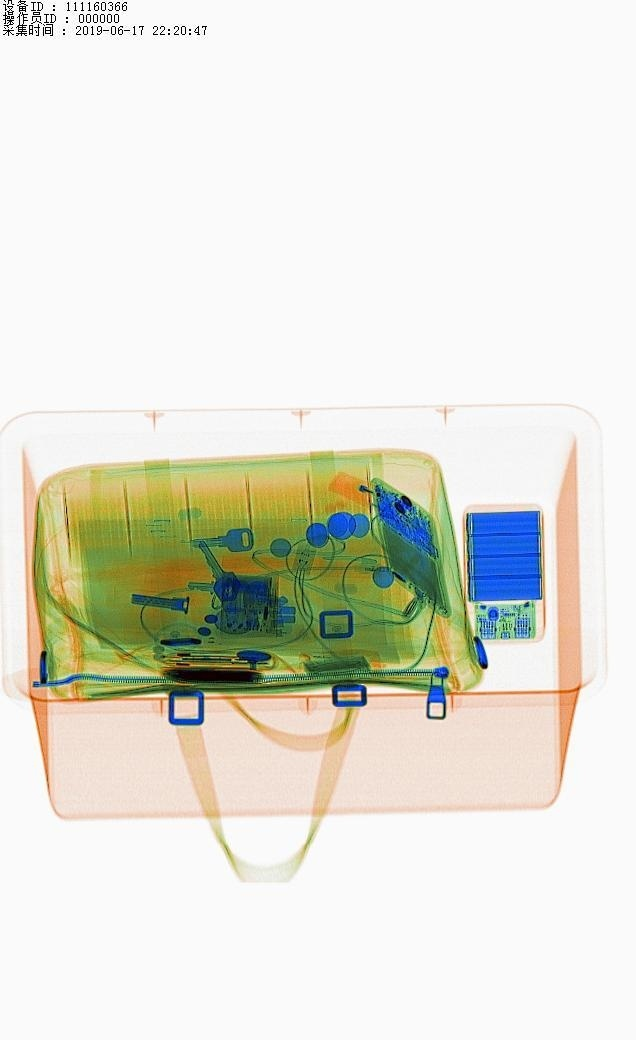NonmetallicFire: (315, 444, 419, 532)
